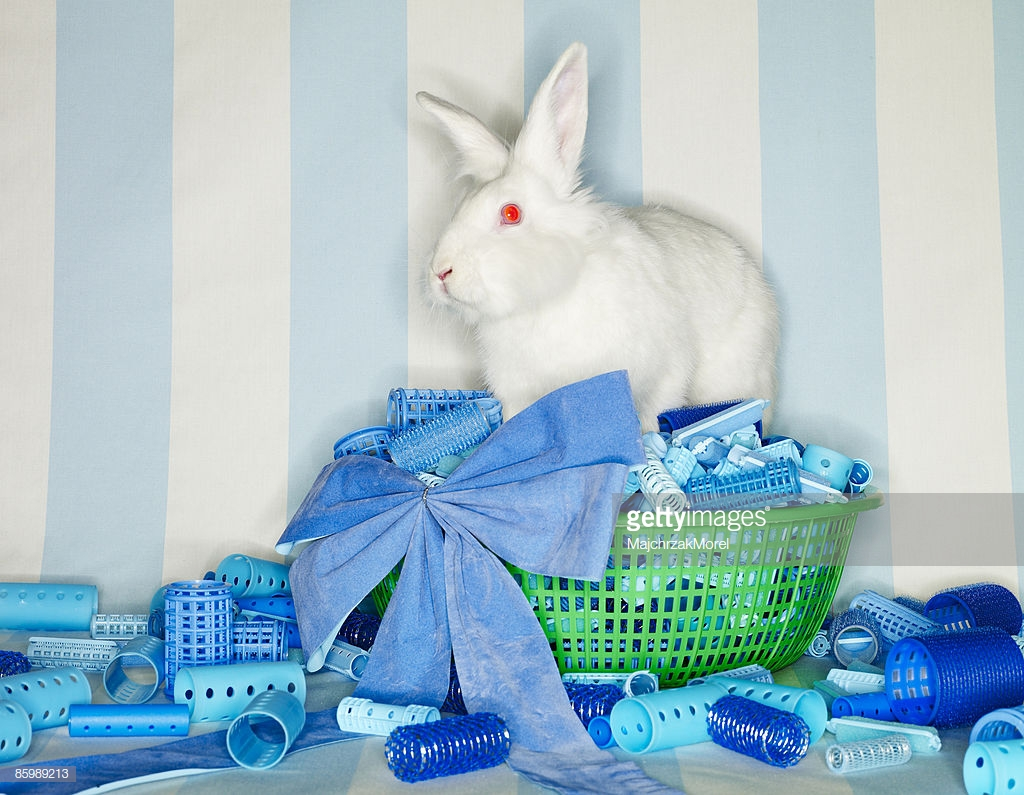bunny: (379, 30, 805, 461)
